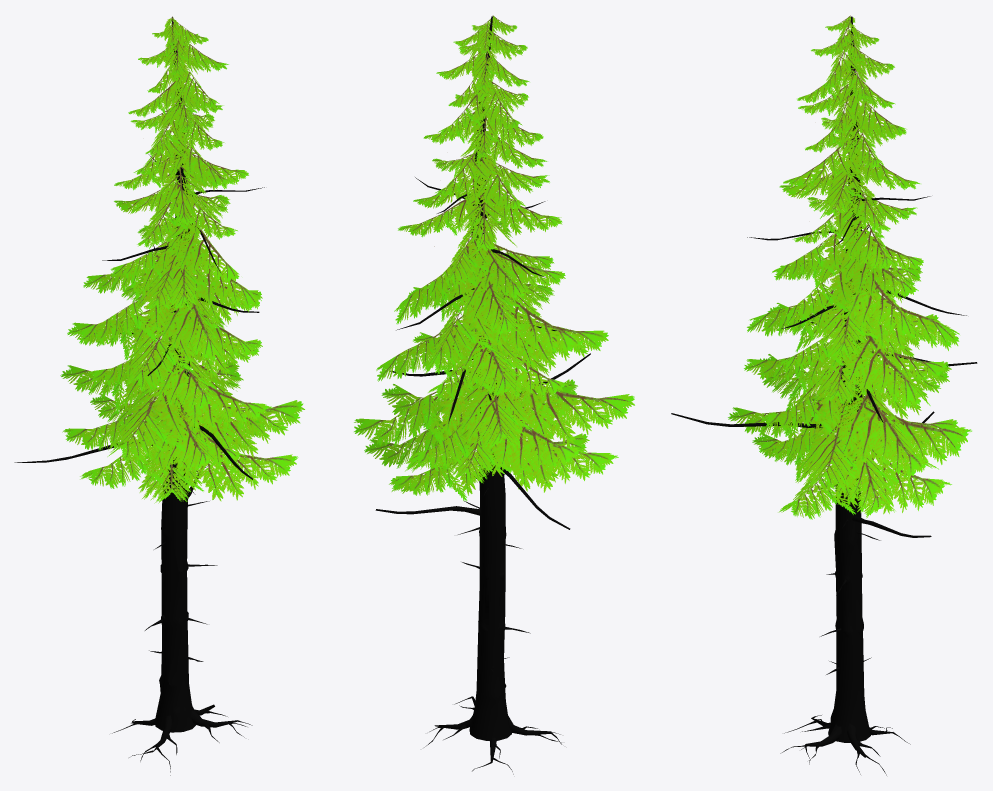
The model's file is Spruce_Tree_V5.fbx.
The picture shows the model from 3 angles, left to right: view 1: azimuth 30°, elevation 25°; view 2: azimuth 150°, elevation 25°; view 3: azimuth 270°, elevation 25°; orthographic projection.
Parts seen in each view (by area): view 1: Spruce_Tree_V5_LOD0; view 2: Spruce_Tree_V5_LOD0; view 3: Spruce_Tree_V5_LOD0.
Boxes of the visible parts, box(x1,y1,x2,y2) form: Spruce_Tree_V5_LOD0: box(14, 16, 304, 775); Spruce_Tree_V5_LOD0: box(354, 15, 634, 774); Spruce_Tree_V5_LOD0: box(671, 15, 977, 775).
Size of what is drawn, in the model's own units: 288 by 829 by 313.
